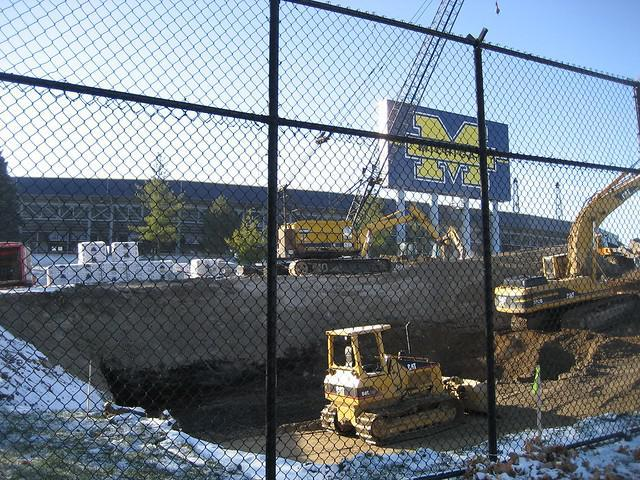EXCAVATORS: (489, 159, 639, 338), (282, 203, 467, 276)
